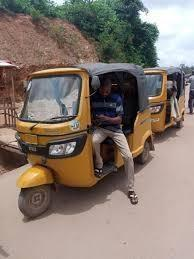keke: (12, 64, 154, 218), (144, 66, 192, 140)
